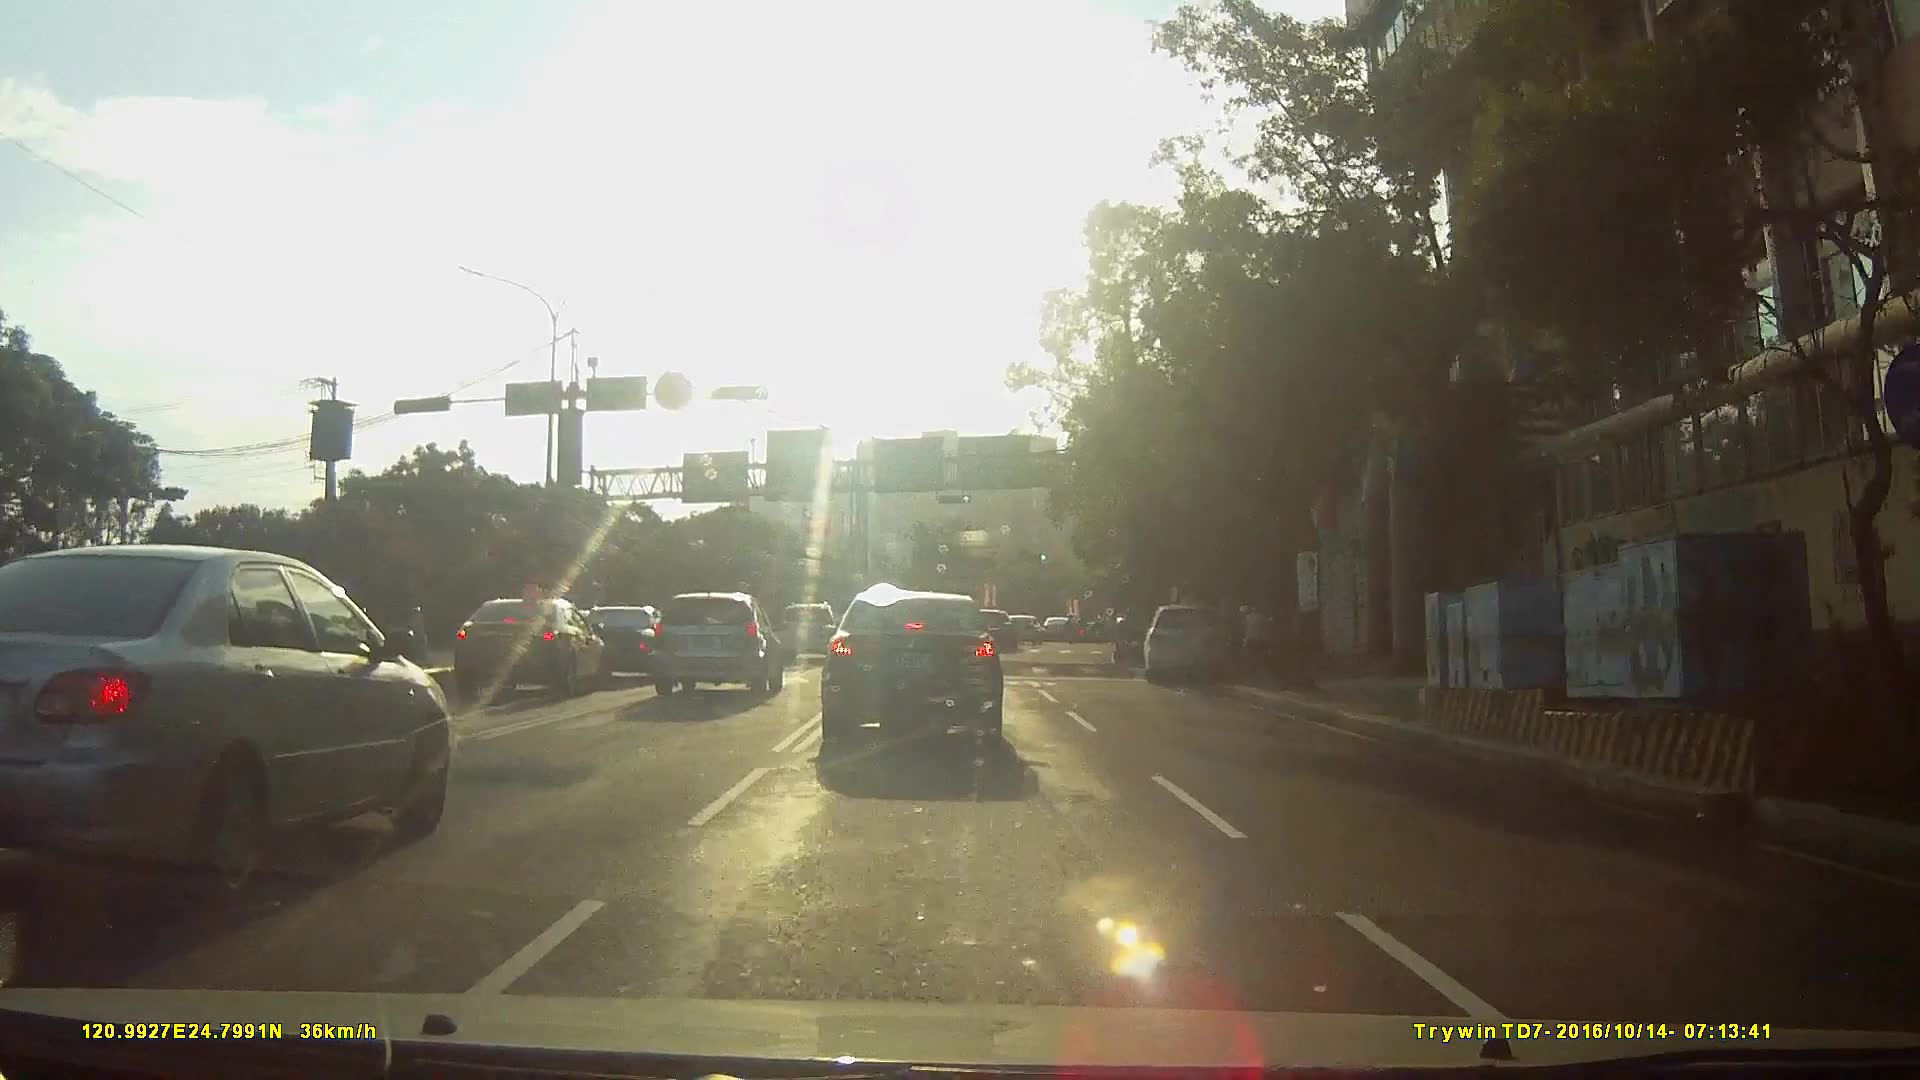pedestrian: (1239, 606, 1272, 672)
rider: (401, 605, 429, 670)
vehicle: (1, 541, 475, 906), (812, 599, 1021, 774), (424, 596, 594, 701), (646, 590, 783, 702), (1142, 604, 1246, 689), (556, 603, 664, 683), (775, 602, 844, 667), (964, 609, 1021, 656), (1007, 616, 1046, 648), (1042, 616, 1082, 644)
